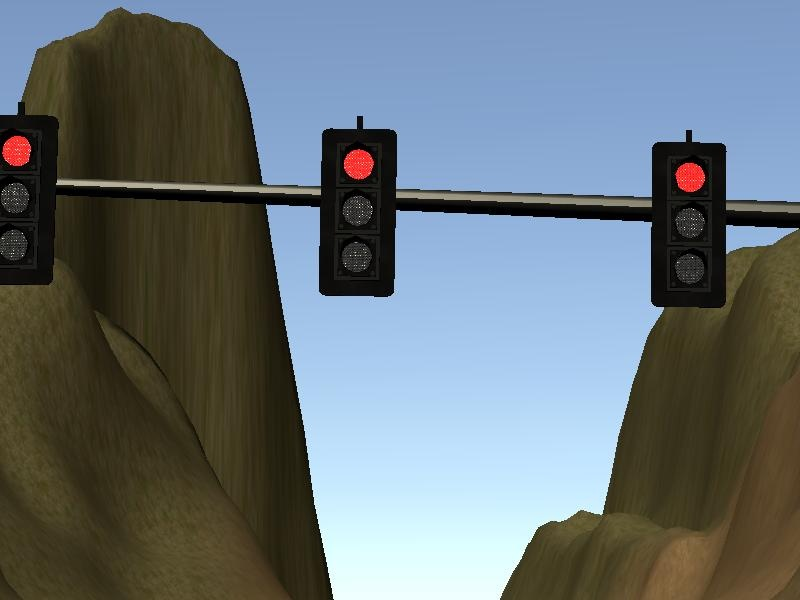RED: (315, 126, 399, 299), (644, 139, 728, 312), (1, 116, 58, 284)
